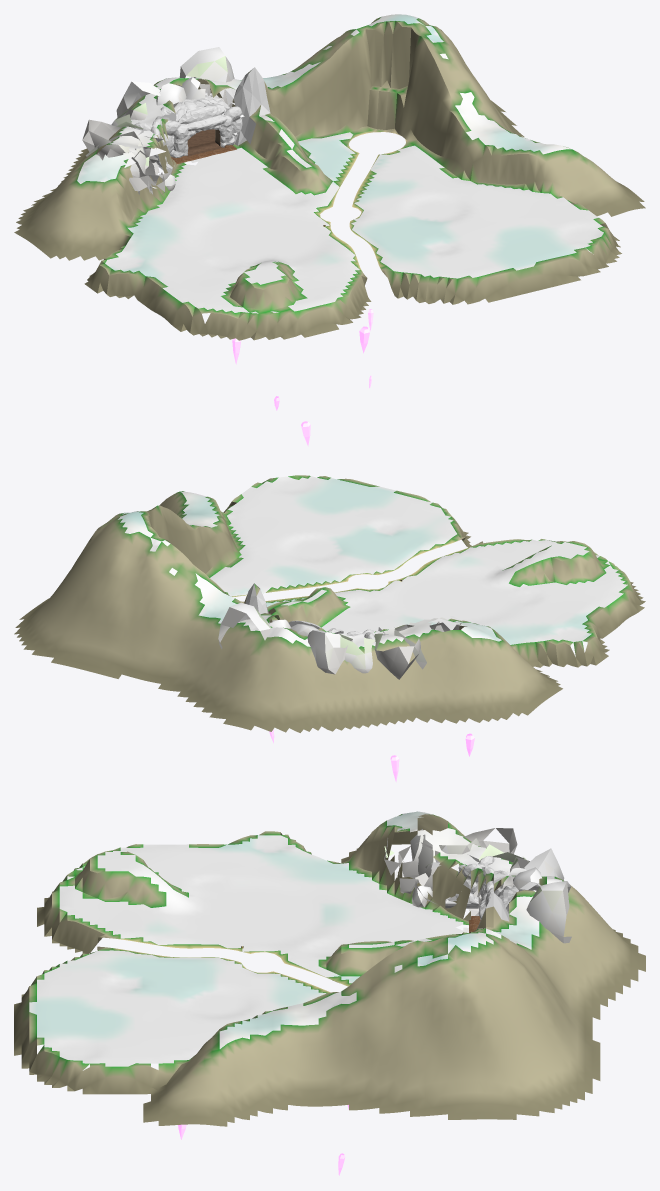
File: world-finish-den.fbx
3 views of the same model, one above another, from view 1: azimuth 30°, elevation 25°; view 2: azimuth 150°, elevation 25°; view 3: azimuth 270°, elevation 25° (orthographic). The views are drawn at different scales.
Visible parts, largest first — view 1: W7_CD_Ground__ground, W7_CD_Ground__grass, W7_F_DenMouth__cliff_rock, W7_F_DenSkin__cliff_rock, W7_CD_Region__cliff_rock, W7_F_OverRocks__cliff_rock_1816, W7_F_OverRocks__cliff_rock_1817, W7_F_OverRocks__cliff_rock_2016, W7_F_OverLandmarks__cliff_rock_1916, W7_CD_Crystals__glow_pink, W7_F_DenLid__cliff_rock, W7_F_Den__floor; view 2: W7_CD_Ground__ground, W7_CD_Ground__grass, W7_F_OverRocks__cliff_rock_1816, W7_F_OverRocks__cliff_rock_1916, W7_F_OverRocks__cliff_rock_2016, W7_F_OverRocks__cliff_rock_1817; view 3: W7_CD_Ground__ground, W7_CD_Ground__grass, W7_CD_Region__cliff_rock, W7_F_OverRocks__cliff_rock_2016, W7_F_DenMouth__cliff_rock, W7_F_OverRocks__cliff_rock_1816, W7_F_OverRocks__cliff_rock_1817, W7_F_OverLandmarks__cliff_rock_1916.
Boxes of the visible parts, <box> form: W7_CD_Ground__ground: <box>14,17,645,340</box>; W7_CD_Ground__grass: <box>77,14,603,313</box>; W7_F_DenMouth__cliff_rock: <box>133,106,242,172</box>; W7_F_DenSkin__cliff_rock: <box>225,67,270,145</box>; W7_CD_Region__cliff_rock: <box>123,83,210,193</box>; W7_F_OverRocks__cliff_rock_1816: <box>82,96,147,151</box>; W7_F_OverRocks__cliff_rock_1817: <box>85,129,175,194</box>; W7_F_OverRocks__cliff_rock_2016: <box>186,56,271,121</box>; W7_F_OverLandmarks__cliff_rock_1916: <box>156,77,205,107</box>; W7_CD_Crystals__glow_pink: <box>232,309,373,446</box>; W7_F_DenLid__cliff_rock: <box>172,92,229,135</box>; W7_F_Den__floor: <box>187,129,223,156</box>; W7_CD_Ground__ground: <box>14,475,645,732</box>; W7_CD_Ground__grass: <box>118,476,627,647</box>; W7_F_OverRocks__cliff_rock_1816: <box>325,633,418,679</box>; W7_F_OverRocks__cliff_rock_1916: <box>260,629,333,672</box>; W7_F_OverRocks__cliff_rock_2016: <box>218,607,270,649</box>; W7_F_OverRocks__cliff_rock_1817: <box>378,621,443,669</box>; W7_CD_Ground__ground: <box>14,814,645,1126</box>; W7_CD_Ground__grass: <box>29,811,562,1066</box>; W7_CD_Region__cliff_rock: <box>384,829,558,906</box>; W7_F_OverRocks__cliff_rock_2016: <box>526,881,571,943</box>; W7_F_DenMouth__cliff_rock: <box>445,856,509,919</box>; W7_F_OverRocks__cliff_rock_1816: <box>478,828,529,899</box>; W7_F_OverRocks__cliff_rock_1817: <box>400,828,494,915</box>; W7_F_OverLandmarks__cliff_rock_1916: <box>513,867,541,891</box>.
Size of the model in its own units: 26100 by 14056 by 24900.
